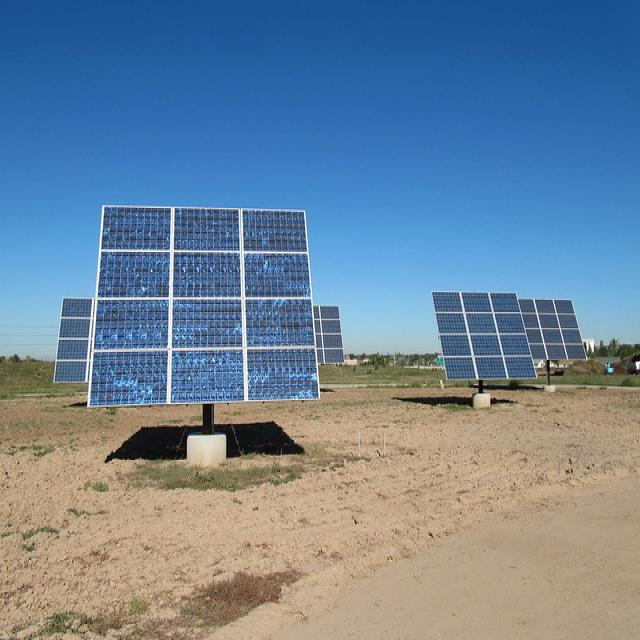dust-solar-panel: (89, 209, 319, 407)
